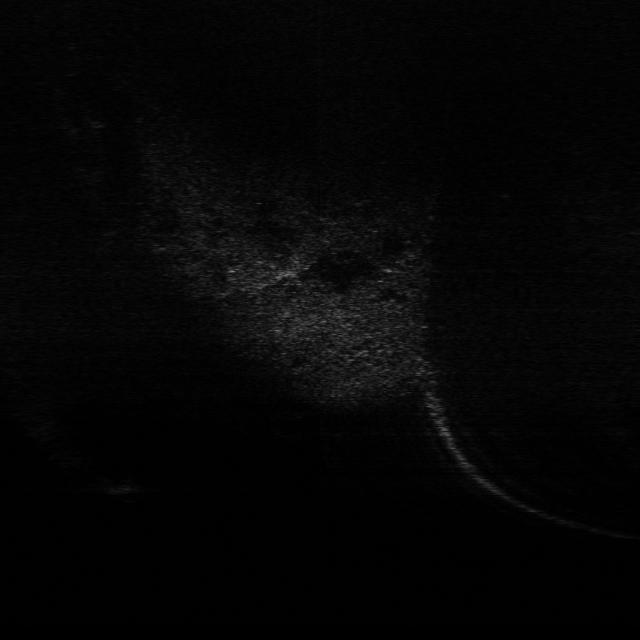cube: (93, 472, 141, 496)
